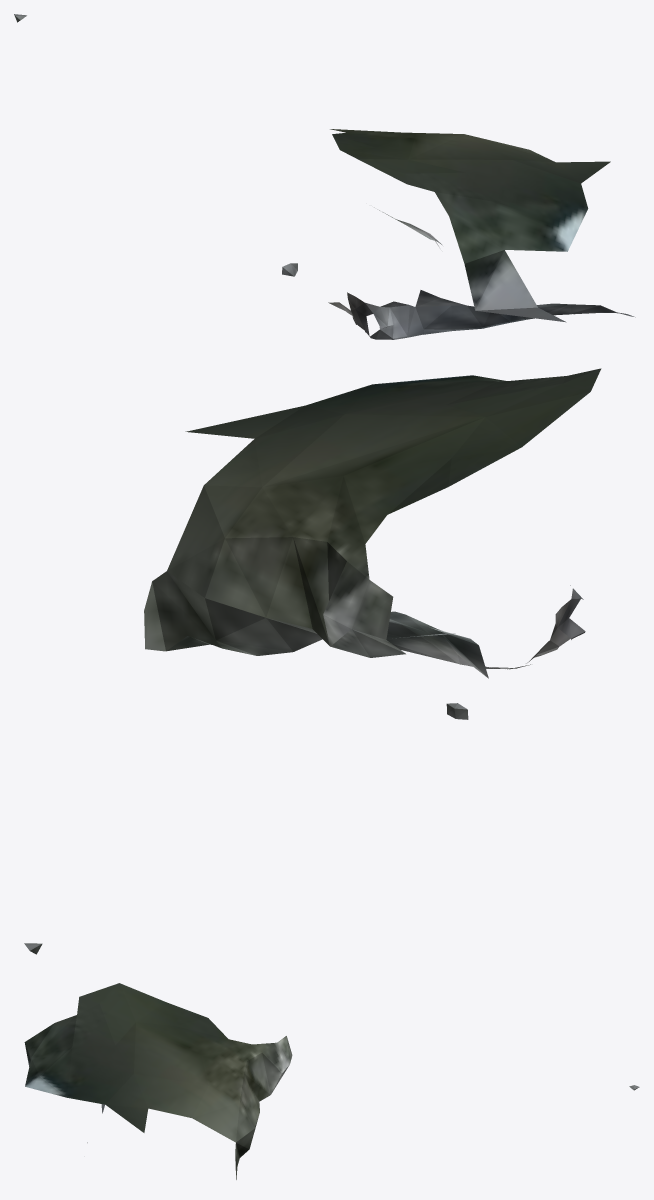
3 renders of one model, top to bottom at view 1: azimuth 30°, elevation 25°; view 2: azimuth 150°, elevation 25°; view 3: azimuth 270°, elevation 25°, orthographic. The views are drawn at different scales.
Size of the model in its own units: 0.5445 by 0.3405 by 1.55.
Materials: 1 (1 with a texture image).
